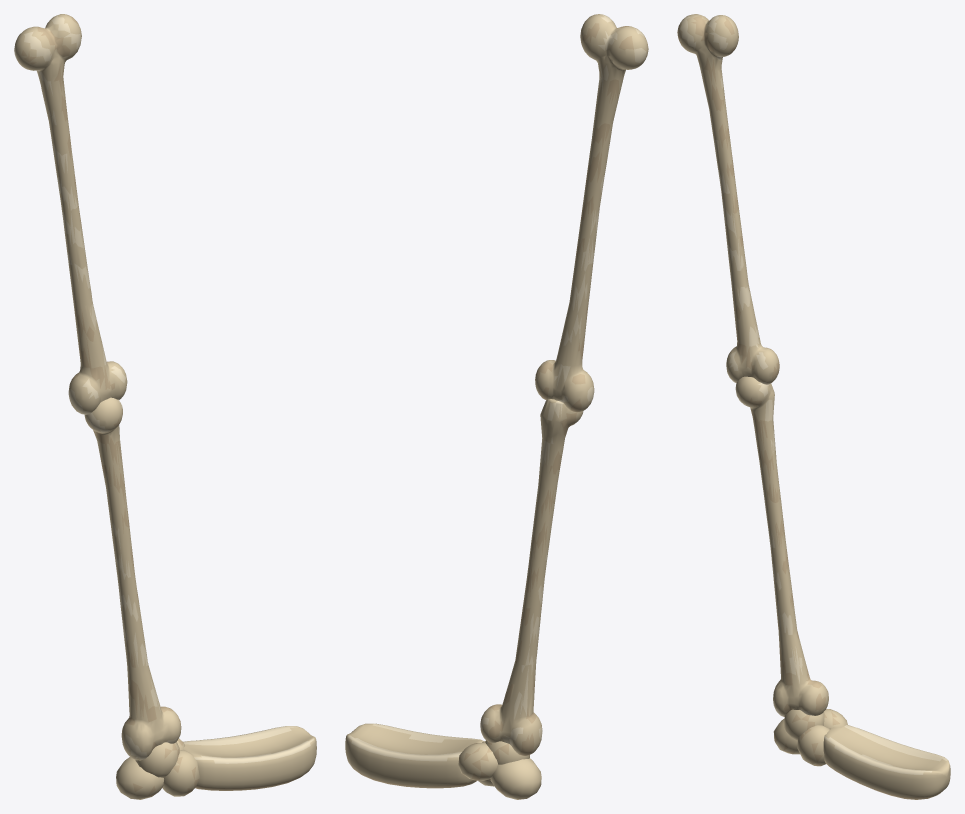
Rendered from bone_golf_club.glb.
The picture shows the model from 3 angles, left to right: view 1: azimuth 30°, elevation 25°; view 2: azimuth 150°, elevation 25°; view 3: azimuth 330°, elevation 25°; orthographic projection. The views are drawn at different scales.
Visible parts, largest first — view 1: 01 • Upper grip bone, 02 • Lower shaft bone, 07 • Foot blade, 04 • Heel bone, 05 • Inner tarsal, 03 • Talus ankle; view 2: 01 • Upper grip bone, 02 • Lower shaft bone, 07 • Foot blade, 04 • Heel bone, 06 • Outer tarsal, 03 • Talus ankle; view 3: 01 • Upper grip bone, 02 • Lower shaft bone, 07 • Foot blade, 05 • Inner tarsal, 03 • Talus ankle, 04 • Heel bone.
Part boxes in pixels (x1,y1,x2,y2): 01 • Upper grip bone: (14, 14, 127, 414); 02 • Lower shaft bone: (84, 397, 181, 760); 07 • Foot blade: (183, 726, 316, 790); 04 • Heel bone: (116, 757, 163, 799); 05 • Inner tarsal: (162, 750, 199, 796); 03 • Talus ankle: (135, 742, 179, 777); 01 • Upper grip bone: (535, 14, 648, 412); 02 • Lower shaft bone: (480, 399, 583, 755); 07 • Foot blade: (345, 723, 483, 788); 04 • Heel bone: (490, 758, 541, 799); 06 • Outer tarsal: (458, 743, 497, 780); 03 • Talus ankle: (485, 740, 529, 764); 01 • Upper grip bone: (677, 14, 779, 384); 02 • Lower shaft bone: (735, 376, 828, 716); 07 • Foot blade: (823, 724, 950, 799); 05 • Inner tarsal: (797, 725, 829, 766); 03 • Talus ankle: (784, 709, 824, 740); 04 • Heel bone: (773, 718, 799, 754).
Size of the model in its own units: 0.3746 by 0.9815 by 0.0735.
